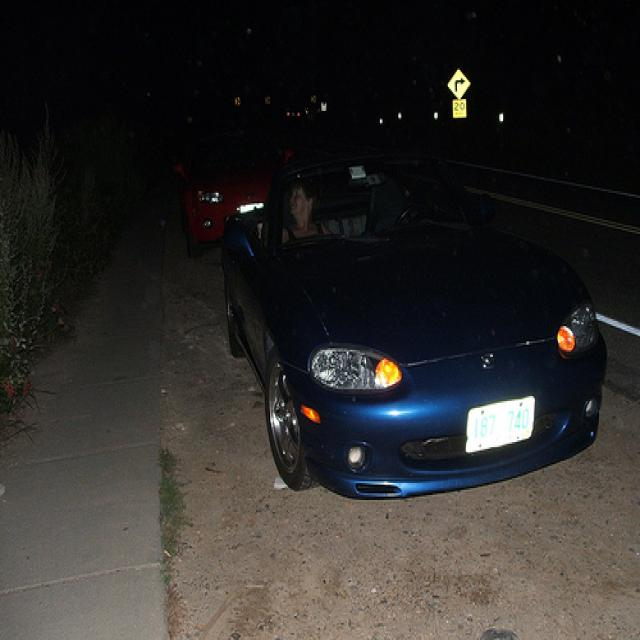light_vehicle: (219, 130, 608, 502), (166, 133, 292, 263)
